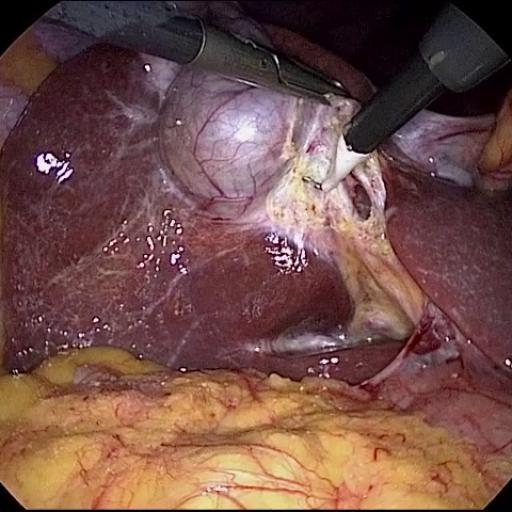Grasper: (150, 0, 372, 128)
Hook: (290, 127, 375, 215)
